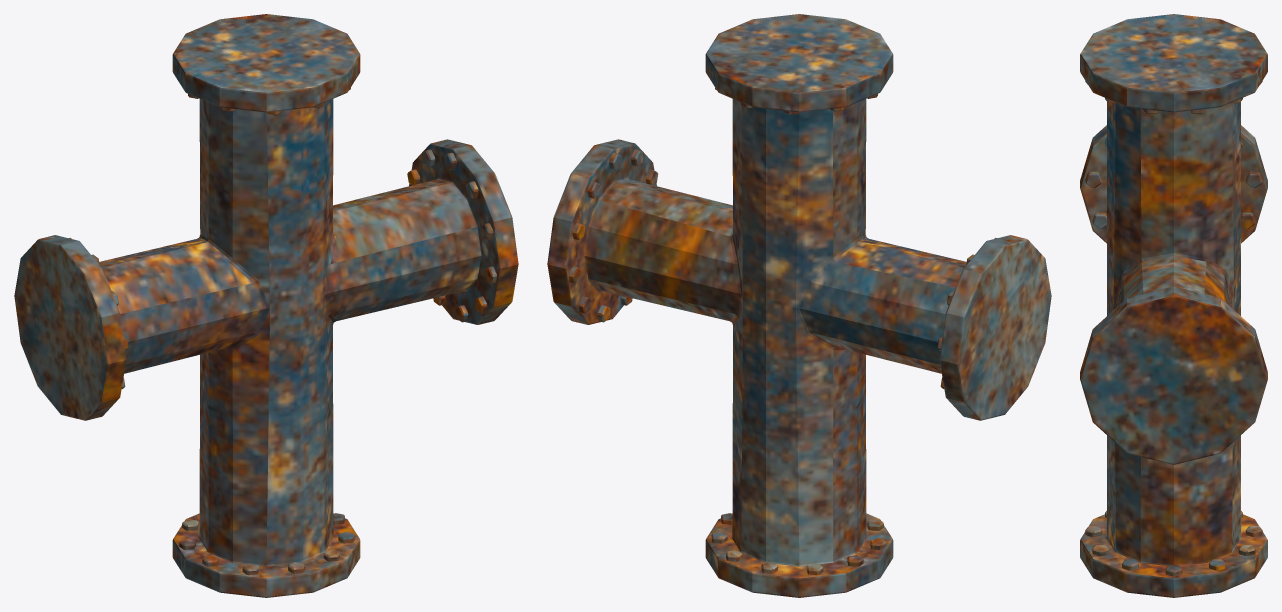
Rendered from pipe.06.fbx.
The picture shows the model from 3 angles, left to right: view 1: azimuth 30°, elevation 25°; view 2: azimuth 150°, elevation 25°; view 3: azimuth 270°, elevation 25°; orthographic projection.
Parts seen in each view (by area): view 1: Pipe.06; view 2: Pipe.06; view 3: Pipe.06.
Boxes of the visible parts, x1=… form: Pipe.06: x1=14, y1=14, x2=518, y2=597; Pipe.06: x1=547, y1=14, x2=1051, y2=597; Pipe.06: x1=1080, y1=14, x2=1267, y2=597.
Bounding box in the file's own units: 142 × 166 × 55.99.
